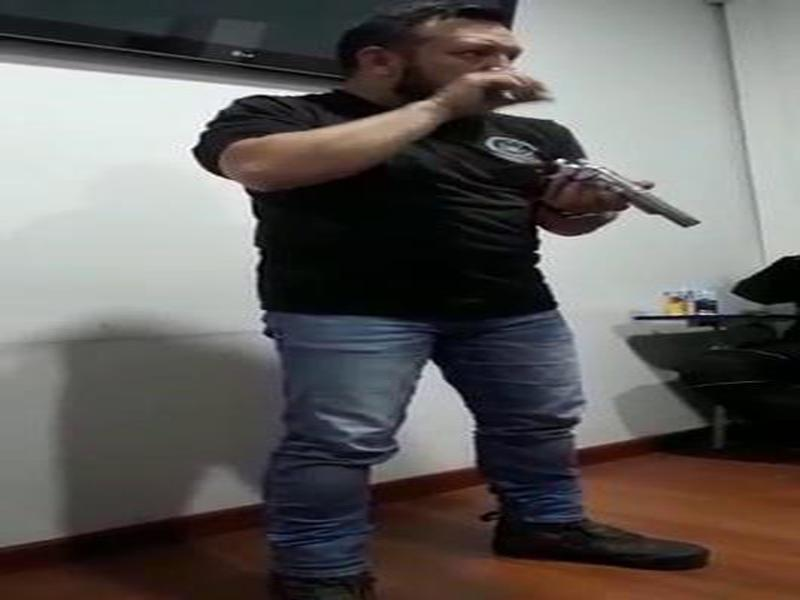Revolver: (504, 144, 703, 245)
